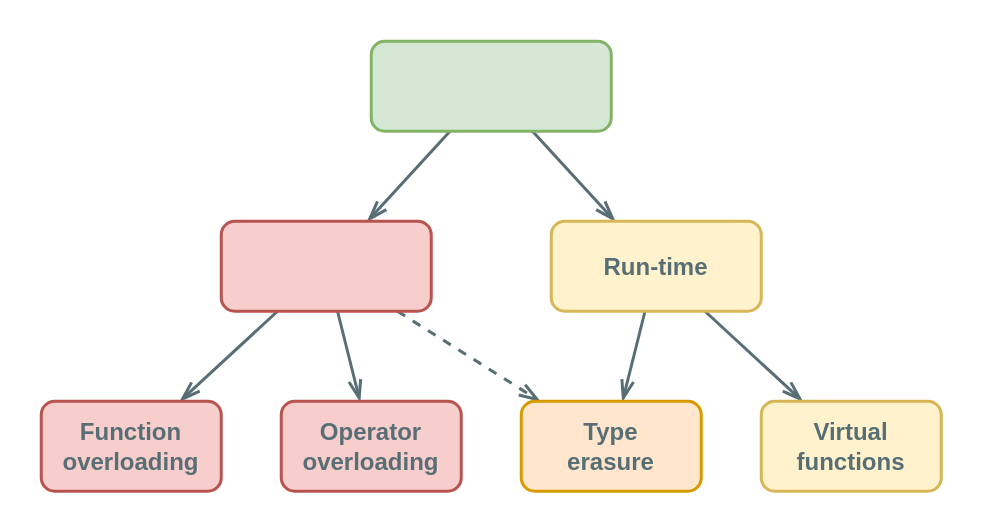
Some shapes in this 981 by 531 pixel diagram are drawn without their labels. The box of each missing label's shape, as (x1, y1, x2, y2) in pixels:
Compile-time: (219, 219, 432, 312)
Polymorphism: (369, 39, 612, 132)
